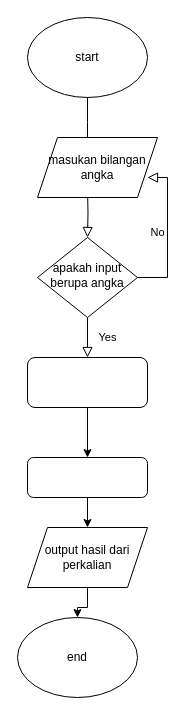
Some shapes in this 195 by 715 pixel diagram are drawn without their labels. Each missing label, with the centre of its shape:
"hitung : 6 x sisi x sisi" belongs at (x=87, y=477).
"masukan bilangan ang di input menjadi sisi" belongs at (x=87, y=382).
